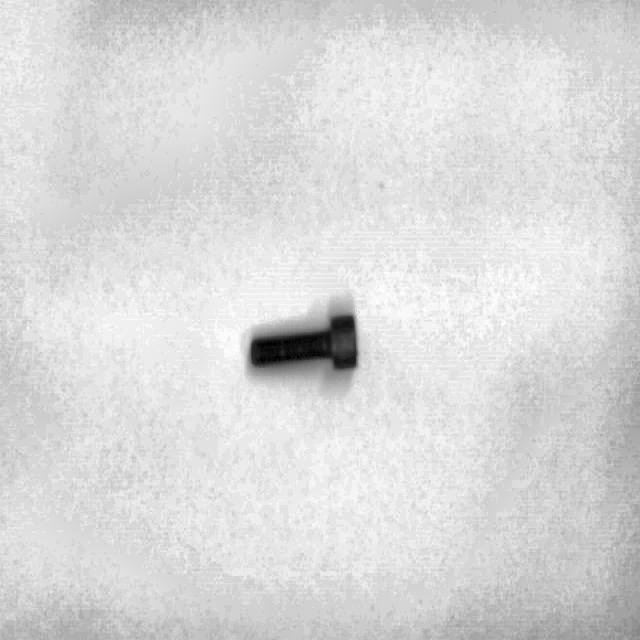Socket head cap screw: (248, 311, 358, 372)
